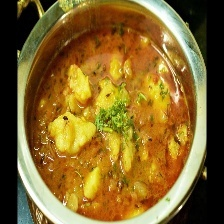sabzi: (24, 23, 194, 221)
